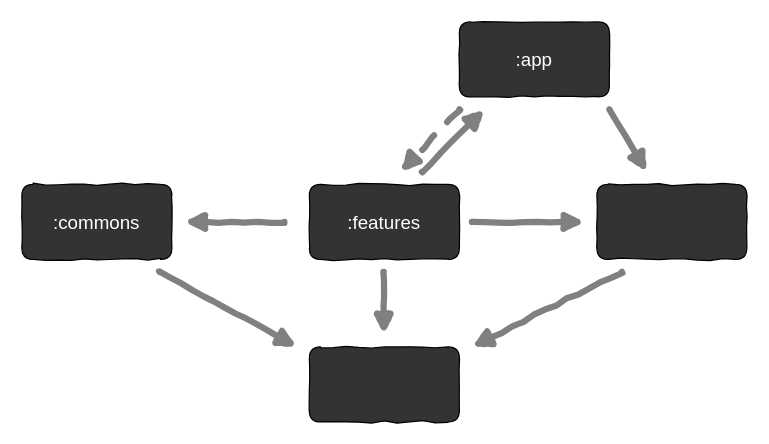
This 769x444 diagram has some shape labels left out. Each missing label, with the centre of its shape:
:core: pixel 671 221
:libraries: pixel 383 384
